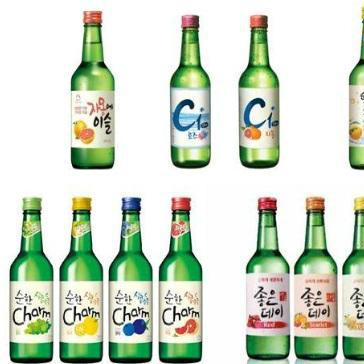soju: (7, 193, 204, 362), (242, 192, 364, 363), (169, 13, 285, 171), (68, 8, 118, 171)
